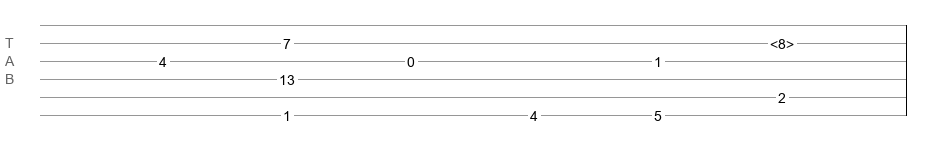0: (407, 54, 415, 64)
1: (283, 108, 291, 118), (654, 54, 662, 64)
13: (279, 72, 295, 82)
2: (778, 90, 786, 100)
4: (159, 54, 167, 64), (530, 108, 538, 118)
5: (654, 108, 662, 118)
7: (283, 36, 291, 46)
harmonic: (770, 36, 794, 46)
